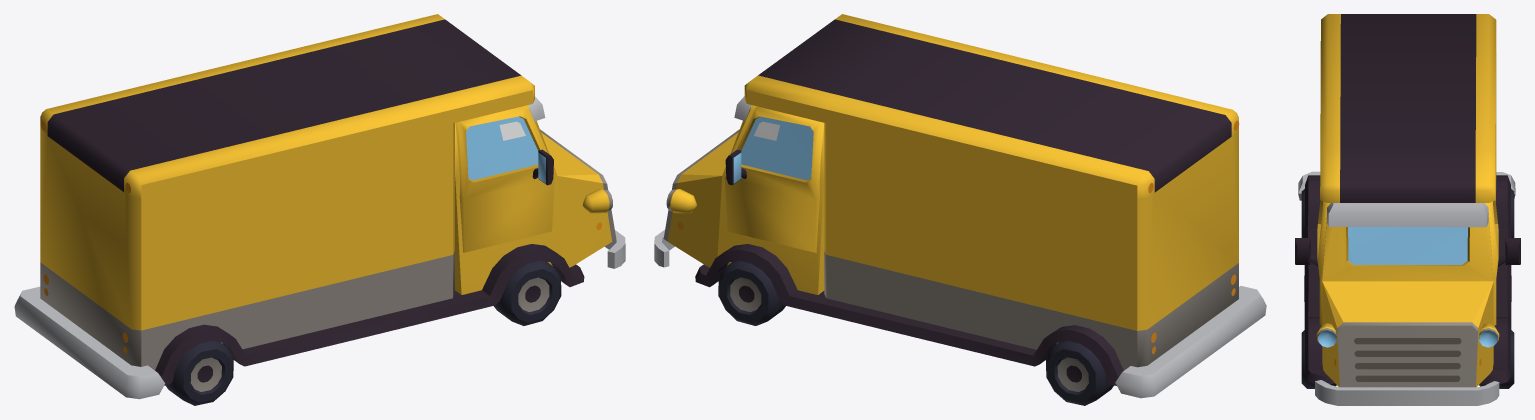
File: Truck.fbx
3 views of the same model, side by side, from view 1: azimuth 30°, elevation 25°; view 2: azimuth 150°, elevation 25°; view 3: azimuth 270°, elevation 25° (orthographic). The views are drawn at different scales.
Parts seen in each view (by area): view 1: Truck; view 2: Truck; view 3: Truck.
Part boxes in pixels (<box>): Truck: <box>14,14,625,405</box>; Truck: <box>654,14,1266,405</box>; Truck: <box>1295,14,1520,405</box>.
Size of the model in its own units: 1059 by 456 by 454.
